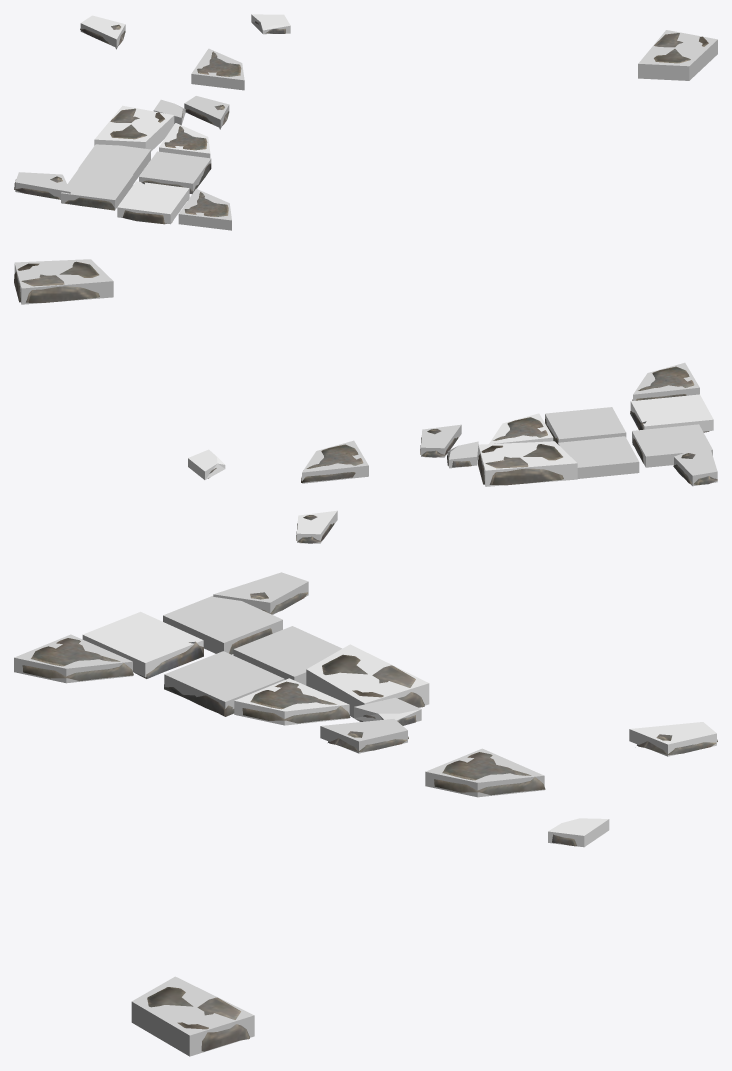
Rendered from Floor_A.fbx.
3 views of the same model, one above another, from view 1: azimuth 30°, elevation 25°; view 2: azimuth 150°, elevation 25°; view 3: azimuth 270°, elevation 25° (orthographic). The views are drawn at different scales.
Parts seen in each view (by area): view 1: Rock_A24_PZ_1, Cube, Cube_3, Rock_A24_PZ, Cube_1, Cube_2, Rock_A26_PZ_2, Rock_A26_PZ_1, Rock_A23_PZ_2, Rock_A23_PZ, Rock_A23_PZ_1, Rock_A26_PZ (+9 smaller); view 2: Cube_2, Cube, Rock_A24_PZ_1, Cube_3, Rock_A24_PZ, Cube_1, Rock_A24__1_, Rock_A24__3_, Rock_A26_PZ_2, Rock_A23_PZ_2, Rock_A26__3_, Rock_A26_PZ_1 (+7 smaller); view 3: Rock_A24_PZ_1, Cube_3, Cube, Cube_1, Rock_A24_PZ, Cube_2, Rock_A26__3_, Rock_A26__2_, Rock_A24__3_, Rock_A26__1_, Rock_A26_PZ_2, Rock_A26_PZ_1 (+7 smaller).
Boxes of the visible parts, left/top/right/bottom form: Rock_A24_PZ_1: left=638, top=30, right=717, bottom=80; Cube: left=117, top=181, right=189, bottom=224; Cube_3: left=61, top=168, right=133, bottom=209; Rock_A24_PZ: left=94, top=105, right=174, bottom=151; Cube_1: left=139, top=151, right=211, bottom=192; Cube_2: left=79, top=144, right=150, bottom=183; Rock_A26_PZ_2: left=191, top=48, right=244, bottom=90; Rock_A26_PZ_1: left=178, top=188, right=231, bottom=230; Rock_A23_PZ_2: left=15, top=172, right=70, bottom=199; Rock_A23_PZ: left=80, top=15, right=125, bottom=47; Rock_A23_PZ_1: left=184, top=96, right=229, bottom=127; Rock_A26_PZ: left=159, top=123, right=210, bottom=158; Cube_2: left=558, top=436, right=639, bottom=478; Cube: left=630, top=394, right=713, bottom=431; Rock_A24_PZ_1: left=14, top=259, right=113, bottom=304; Cube_3: left=632, top=424, right=712, bottom=467; Rock_A24_PZ: left=478, top=441, right=577, bottom=486; Cube_1: left=545, top=407, right=626, bottom=442; Rock_A24__1_: left=478, top=444, right=563, bottom=485; Rock_A24__3_: left=14, top=261, right=99, bottom=302; Rock_A26_PZ_2: left=302, top=440, right=368, bottom=483; Rock_A23_PZ_2: left=674, top=444, right=717, bottom=486; Rock_A26__3_: left=301, top=444, right=363, bottom=482; Rock_A26_PZ_1: left=633, top=362, right=699, bottom=400; Rock_A24_PZ_1: left=131, top=976, right=254, bottom=1056; Cube_3: left=163, top=596, right=282, bottom=653; Cube: left=82, top=611, right=203, bottom=677; Cube_1: left=164, top=651, right=284, bottom=708; Rock_A24_PZ: left=306, top=644, right=429, bottom=721; Cube_2: left=233, top=626, right=342, bottom=685; Rock_A26__3_: left=434, top=752, right=545, bottom=795; Rock_A26__2_: left=22, top=638, right=133, bottom=680; Rock_A24__3_: left=147, top=987, right=249, bottom=1051; Rock_A26__1_: left=242, top=681, right=350, bottom=723; Rock_A26_PZ_2: left=425, top=748, right=544, bottom=797; Rock_A26_PZ_1: left=14, top=634, right=132, bottom=683.
Size of the model in its own units: 1372 by 36.72 by 873.
Materials: 2 (1 with a texture image).
